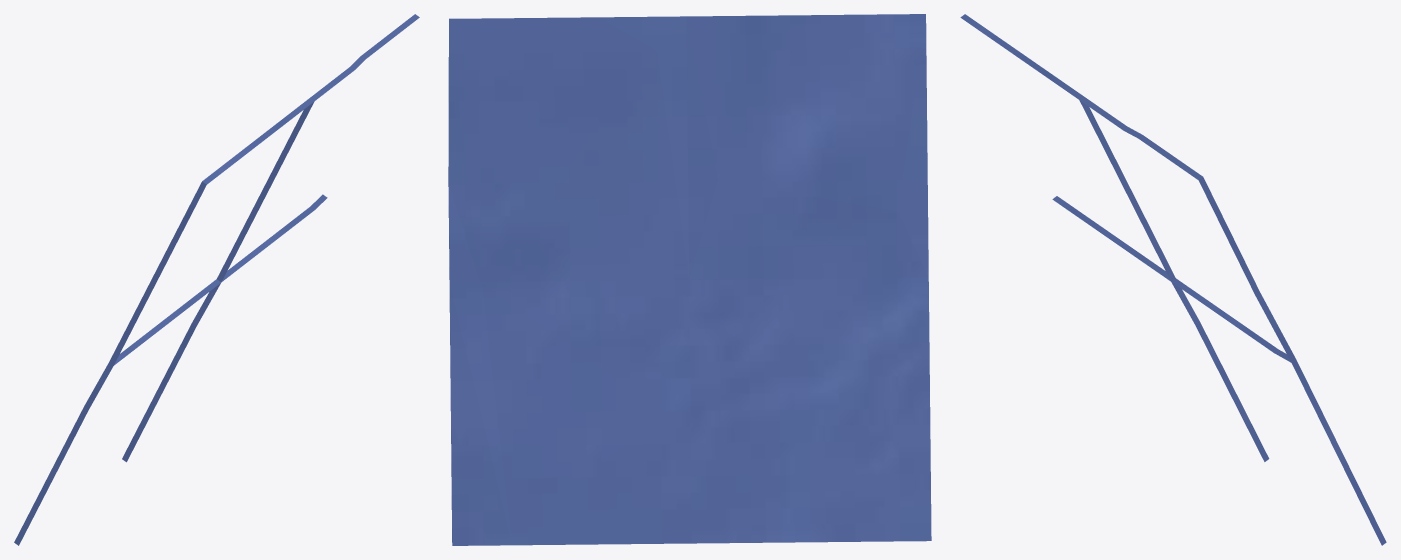
The picture shows the model from 3 angles, left to right: view 1: azimuth 30°, elevation 25°; view 2: azimuth 150°, elevation 25°; view 3: azimuth 270°, elevation 25°; orthographic projection. The views are drawn at different scales.
Bounding box in the file's own units: 19643 × 17846 × 16645.
Materials: 1 (1 with a texture image).
